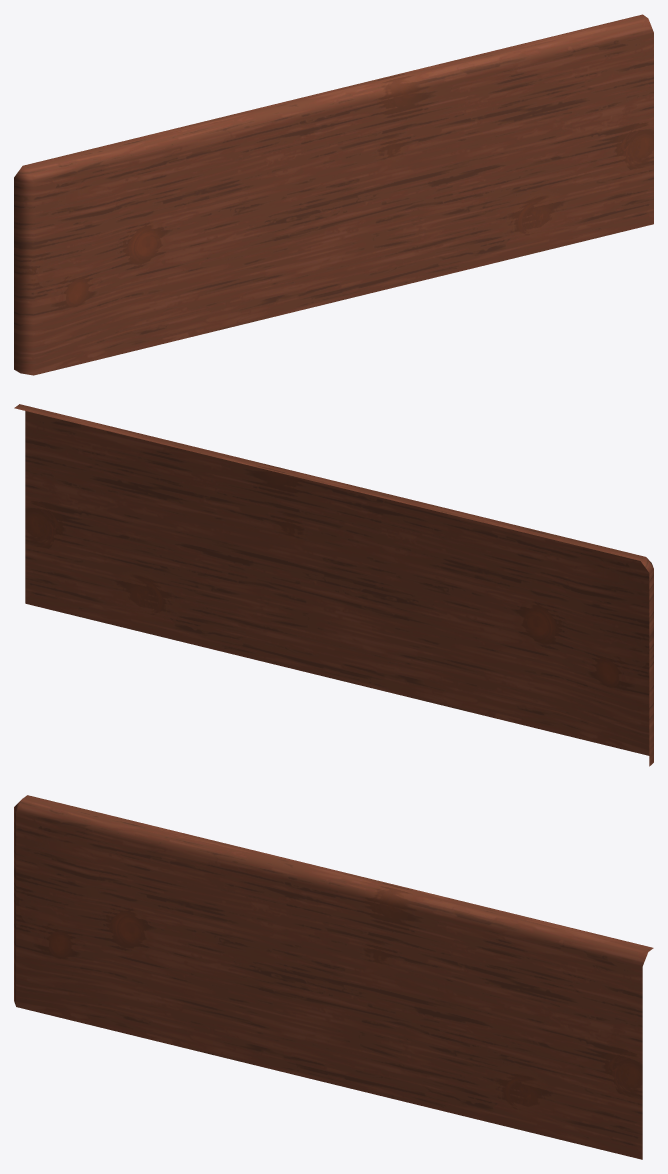
File: En_W_Woodtrim3.fbx
The picture shows the model from 3 angles, top to bottom: view 1: azimuth 30°, elevation 25°; view 2: azimuth 150°, elevation 25°; view 3: azimuth 330°, elevation 25°; orthographic projection.
Parts seen in each view (by area): view 1: En_W_Woodtrim3; view 2: En_W_Woodtrim3; view 3: En_W_Woodtrim3.
Boxes of the visible parts, x1=… form: En_W_Woodtrim3: x1=14, y1=14, x2=653, y2=375; En_W_Woodtrim3: x1=14, y1=404, x2=653, y2=766; En_W_Woodtrim3: x1=14, y1=795, x2=653, y2=1159.
Bounding box in the file's own units: 200 × 61.33 × 6.13.
